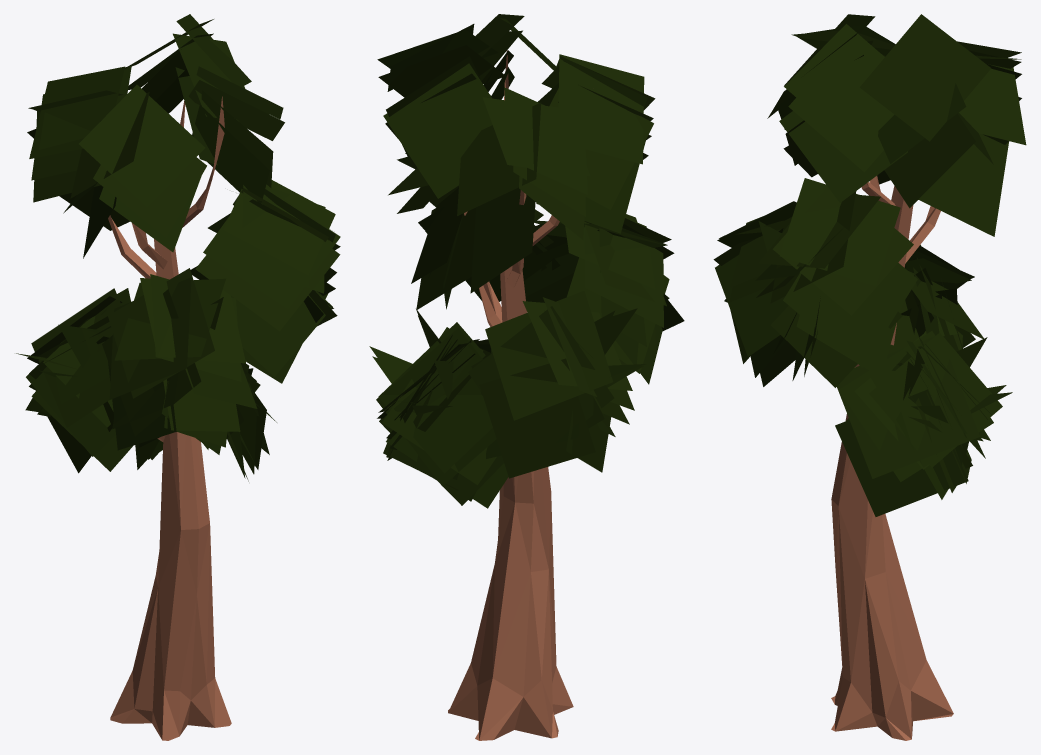
The model's file is tree1far.glb.
The picture shows the model from 3 angles, left to right: view 1: azimuth 30°, elevation 25°; view 2: azimuth 150°, elevation 25°; view 3: azimuth 270°, elevation 25°; orthographic projection. The views are drawn at different scales.
Visible parts, largest first — view 1: CommonTree_3; view 2: CommonTree_3; view 3: CommonTree_3.
Boxes of the visible parts, x1,y1,x2,y2 form: CommonTree_3: (16, 14, 340, 740); CommonTree_3: (369, 14, 684, 740); CommonTree_3: (713, 14, 1026, 740).
Bounding box in the file's own units: 3.72 × 8.63 × 3.45.
